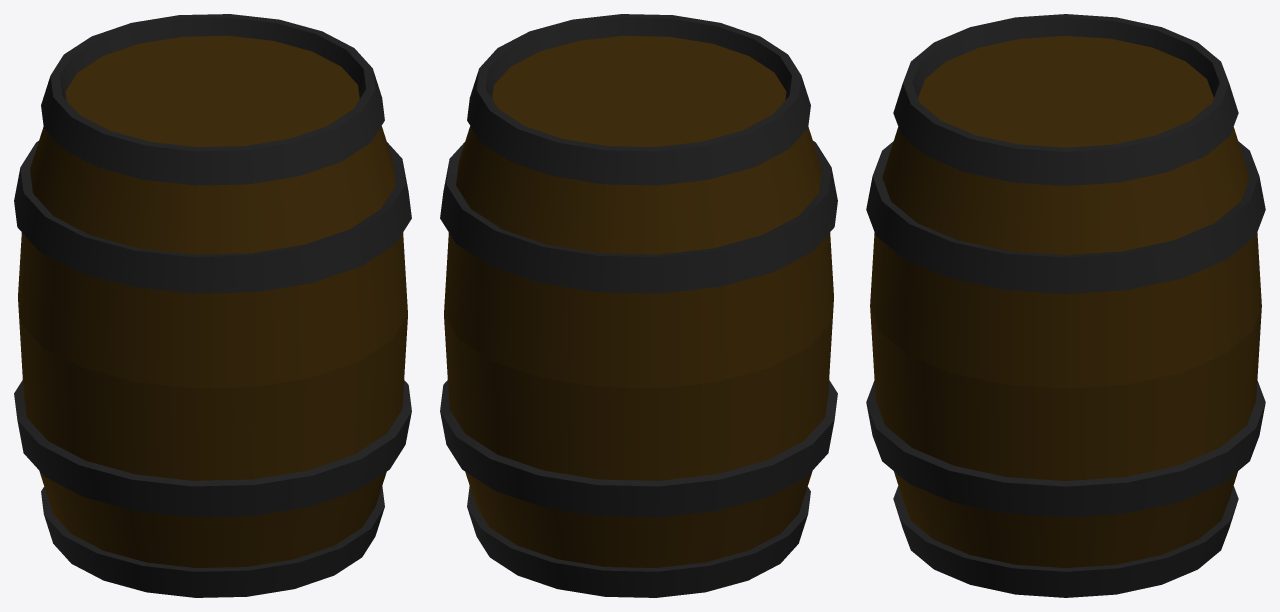
File: barrel_exp.fbx
3 renders of one model, left to right at view 1: azimuth 30°, elevation 25°; view 2: azimuth 150°, elevation 25°; view 3: azimuth 270°, elevation 25°, orthographic.
Visible parts, largest first — view 1: barrell; view 2: barrell; view 3: barrell.
Boxes of the visible parts, <box> form: barrell: <box>14,14,411,597</box>; barrell: <box>440,14,837,597</box>; barrell: <box>866,14,1265,597</box>.
Bounding box in the file's own units: 0.811 × 1 × 0.811.
